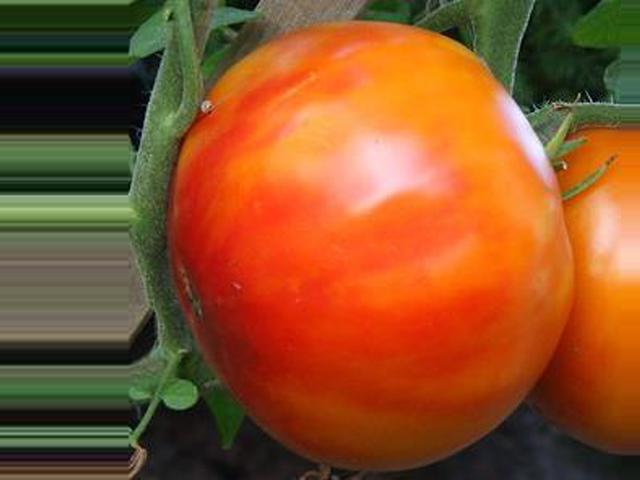tomato: (169, 21, 569, 470)
